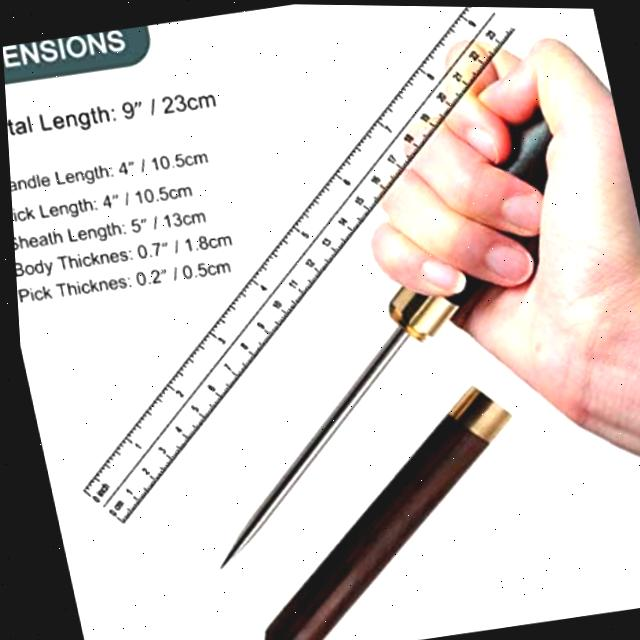ice pick: (128, 105, 630, 577), (209, 375, 549, 640)
